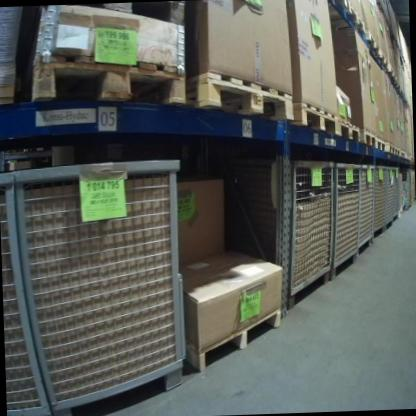pallet: (26, 43, 188, 112), (184, 305, 285, 375), (187, 69, 296, 127), (294, 99, 340, 139), (337, 116, 362, 145), (363, 127, 377, 151), (377, 136, 387, 155), (386, 140, 396, 157)
stillage: (12, 155, 187, 416), (221, 157, 338, 317), (0, 170, 58, 416), (324, 157, 365, 288), (355, 162, 379, 260), (368, 162, 391, 242), (382, 165, 397, 232), (392, 165, 405, 219)
